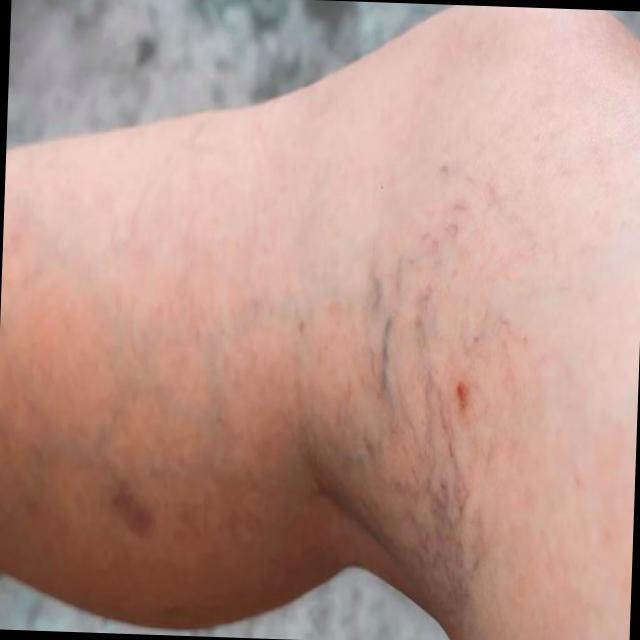Eczema: (0, 233, 485, 623)
